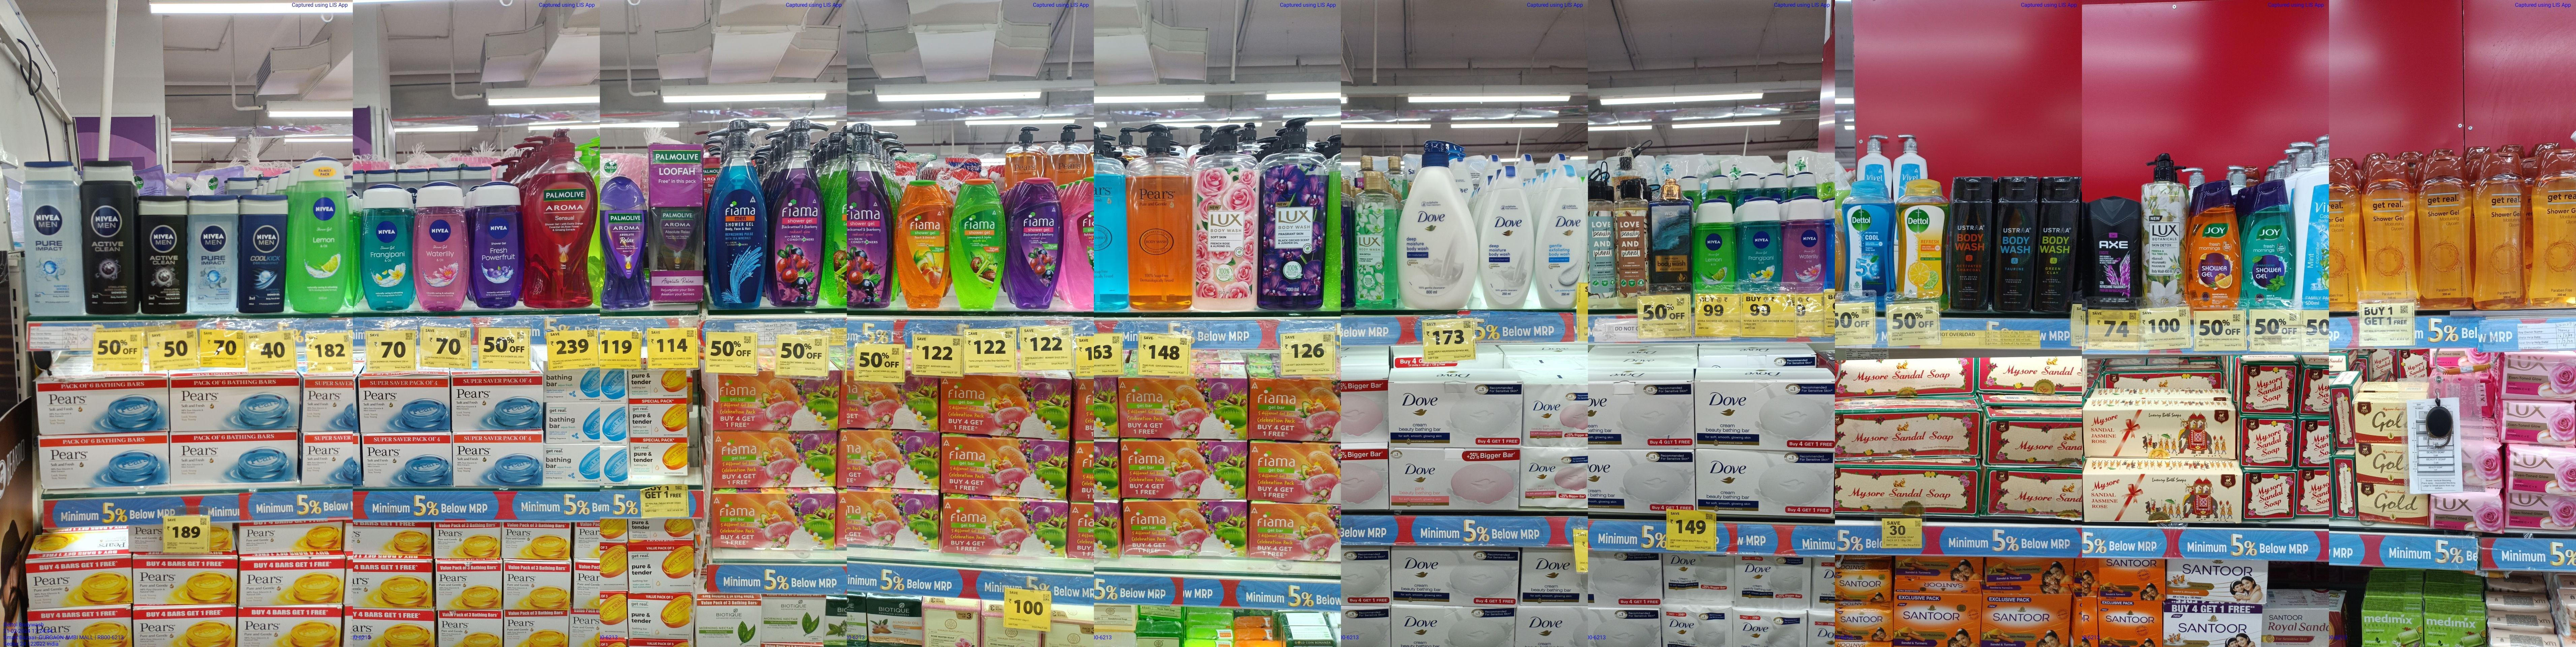Dettol_Bodywash_Cool: (1842, 177, 1894, 302)
Dettol_Bodywash_Refresh: (1898, 177, 1945, 301)
Dove_Deep_Moisture_Body_Wash_250ML: (1480, 163, 1534, 310)
Dove_Gentle_Exfoliating_Body_Wash_250ML: (1538, 153, 1589, 307)
Fiama_Shower_Gel_Lemongrass_and_Jojoba_250ML: (953, 179, 1005, 310)
Fiama_Shower_Gel_Peach_and_Avocado_250ML: (897, 176, 950, 309)
Get_Real_Shower_Gel_Moisturising_Glycerin_300ML: (2474, 156, 2525, 309), (2364, 166, 2420, 301), (2422, 159, 2471, 309), (2530, 148, 2576, 305)
Joy_Shower_Gel_Mandarin_and_Lemongrass_250ML: (2190, 181, 2241, 309)
Joy_Shower_Gel_Mint_and_Eucalyptus_250ML: (2246, 182, 2295, 307)
Lux_Body_Wash_Skin_Detox_Freesia_Scent_and_Alove_Vera_245ML: (1354, 171, 1395, 309)
Nivea_Shower_Gel_Frangipani_and_Oil_250ML: (360, 182, 412, 312), (1738, 199, 1783, 291)
Nivea_Shower_Gel_Fresh_Powerfruit_250ML: (472, 182, 521, 307)
Nivea_Shower_Gel_Lemon_and_Oil_250ML: (291, 158, 352, 310), (1692, 202, 1735, 291)
Nivea_Shower_Gel_Waterlily_and_Oil_250ML: (416, 184, 467, 309), (1786, 199, 1825, 291)
Palmolive_Aroma_Relax_250ML: (601, 176, 651, 310)
